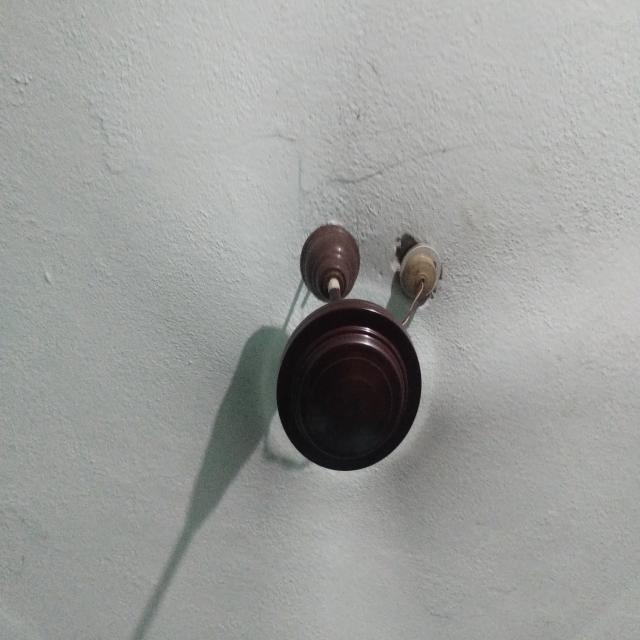fan_on: (120, 177, 578, 562)
